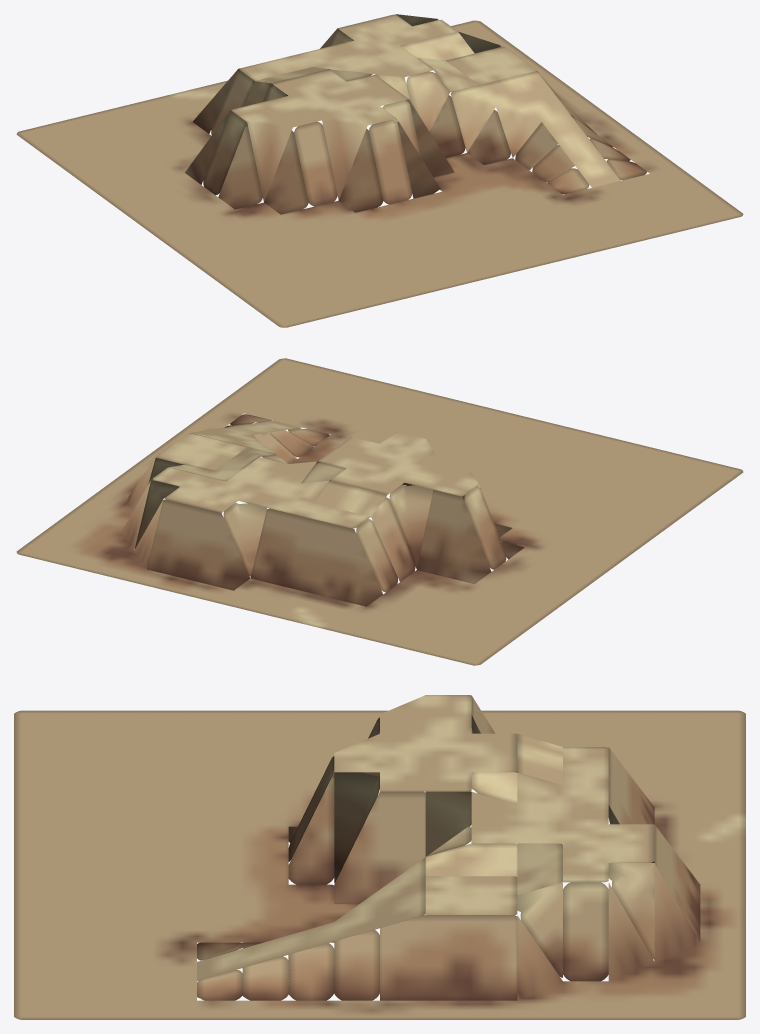
File: map_1.fbx
3 views of the same model, one above another, from view 1: azimuth 30°, elevation 25°; view 2: azimuth 150°, elevation 25°; view 3: azimuth 270°, elevation 25° (orthographic). The views are drawn at different scales.
Parts seen in each view (by area): view 1: cuboid; view 2: cuboid; view 3: cuboid.
Part boxes in pixels (bbox=[...]): cuboid: bbox=[16, 14, 743, 327]; cuboid: bbox=[16, 358, 743, 665]; cuboid: bbox=[14, 695, 745, 1019].
Size of the model in its own units: 312 by 43.75 by 312.
1 material, 1 textured.
